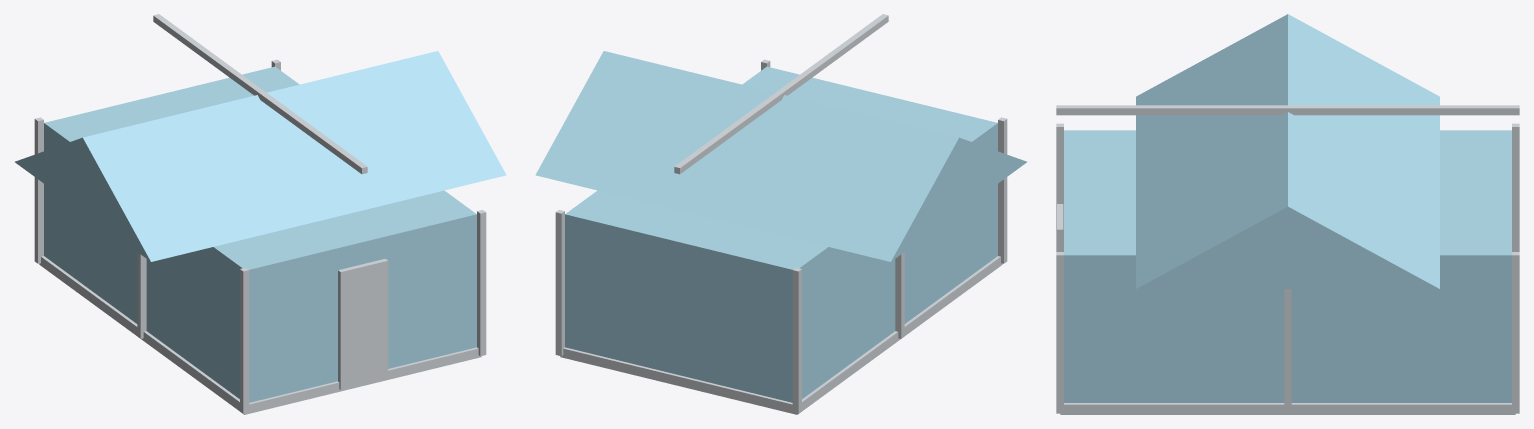
The model's file is hydro_greenhouse.glb.
The picture shows the model from 3 angles, left to right: view 1: azimuth 30°, elevation 25°; view 2: azimuth 150°, elevation 25°; view 3: azimuth 270°, elevation 25°; orthographic projection. The views are drawn at different scales.
Parts seen in each view (by area): view 1: greenhouse; view 2: greenhouse; view 3: greenhouse.
Part boxes in pixels (x1=…): greenhouse: x1=15, y1=14, x2=506, y2=414; greenhouse: x1=535, y1=14, x2=1026, y2=414; greenhouse: x1=1056, y1=14, x2=1519, y2=414.
Size of the model in its own units: 6 by 3.55 by 6.1.
